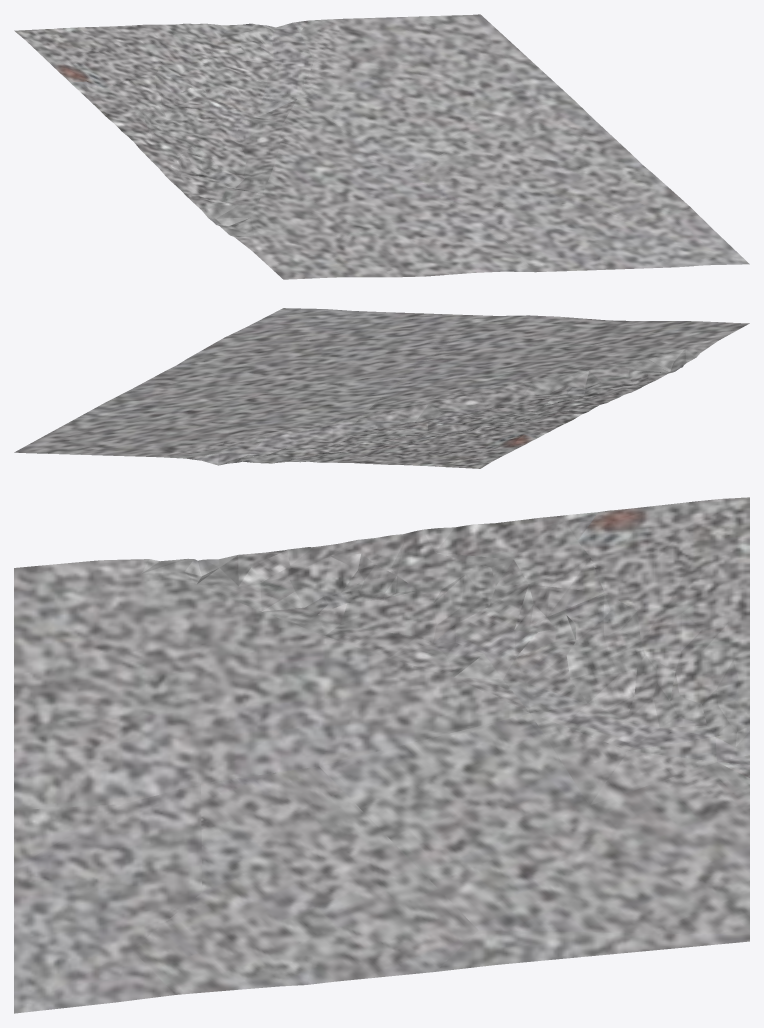
The picture shows the model from 3 angles, top to bottom: view 1: azimuth 30°, elevation 25°; view 2: azimuth 150°, elevation 25°; view 3: azimuth 270°, elevation 25°; orthographic projection. The views are drawn at different scales.
Bounding box in the file's own units: 0.8373 × 0.2576 × 0.8373.
Materials: 2 (2 with a texture image).
